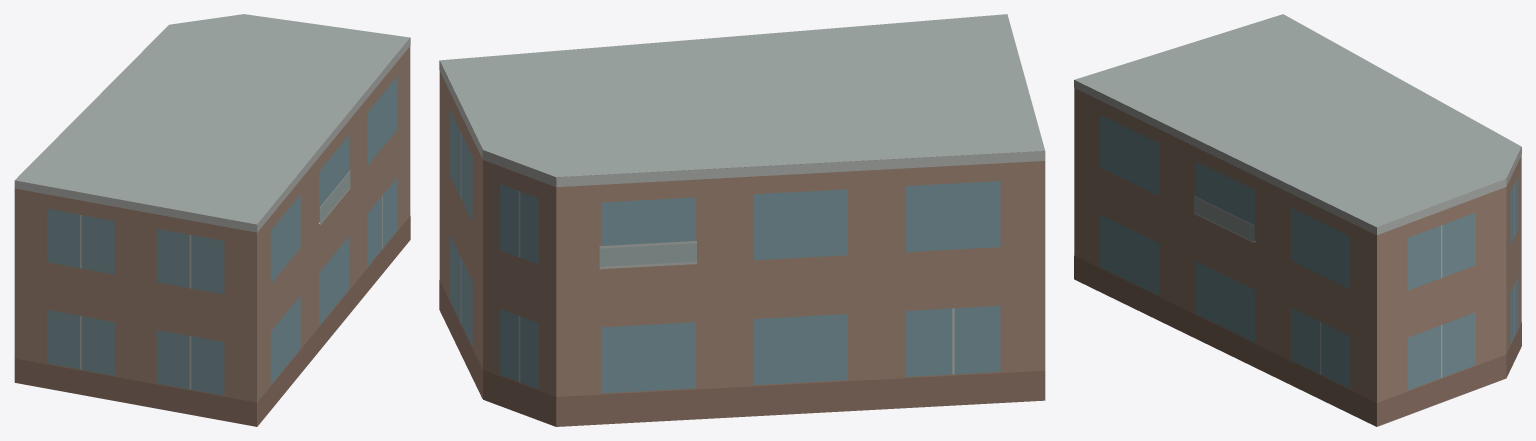
Rendered from survey-upis-32753075.glb.
3 renders of one model, left to right at view 1: azimuth 30°, elevation 25°; view 2: azimuth 150°, elevation 25°; view 3: azimuth 270°, elevation 25°, orthographic. The views are drawn at different scales.
Parts seen in each view (by area): view 1: survey-upis-32753075.tmp; view 2: survey-upis-32753075.tmp; view 3: survey-upis-32753075.tmp.
Part boxes in pixels (bbox=[...]): survey-upis-32753075.tmp: bbox=[14, 14, 410, 426]; survey-upis-32753075.tmp: bbox=[439, 14, 1045, 426]; survey-upis-32753075.tmp: bbox=[1074, 14, 1521, 426].
Size of the model in its own units: 14 by 6.1 by 12.41.
